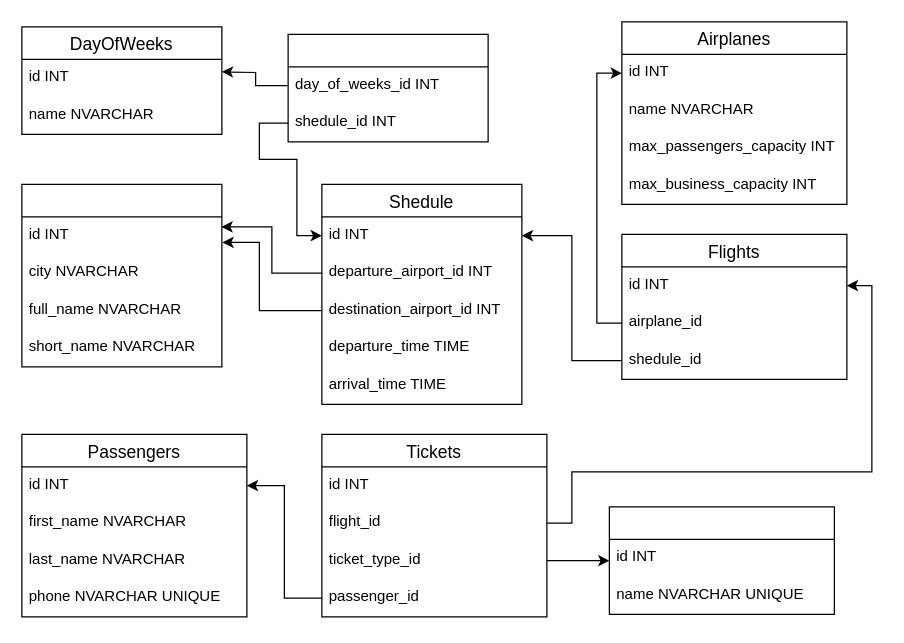
This 904x643 diagram has some shape labels left out. The shapes that lost their labels are listed below. From the top down, each one's box as (x1, y1, x2, y2) in pixels, then its label:
(287, 33, 488, 142): SheduleDays
(21, 183, 222, 367): Airports
(608, 506, 834, 614): TicketsType
